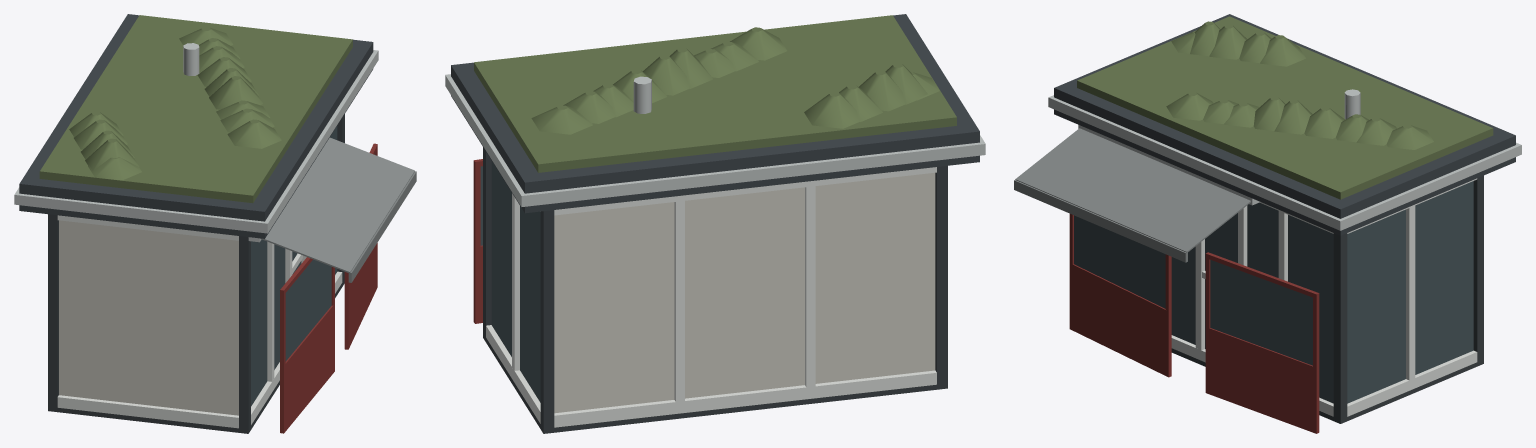
Rendered from kiosk-dumplings-nassauplein.glb.
3 renders of one model, left to right at view 1: azimuth 30°, elevation 25°; view 2: azimuth 150°, elevation 25°; view 3: azimuth 270°, elevation 25°, orthographic. The views are drawn at different scales.
Visible parts, largest first — view 1: kiosk-dumplings-nassauplein; view 2: kiosk-dumplings-nassauplein; view 3: kiosk-dumplings-nassauplein.
Boxes of the visible parts, <box> form: kiosk-dumplings-nassauplein: <box>14,14,416,433</box>; kiosk-dumplings-nassauplein: <box>445,14,985,433</box>; kiosk-dumplings-nassauplein: <box>1014,14,1521,433</box>.
Size of the model in its own units: 5.85 by 3.56 by 6.27.
